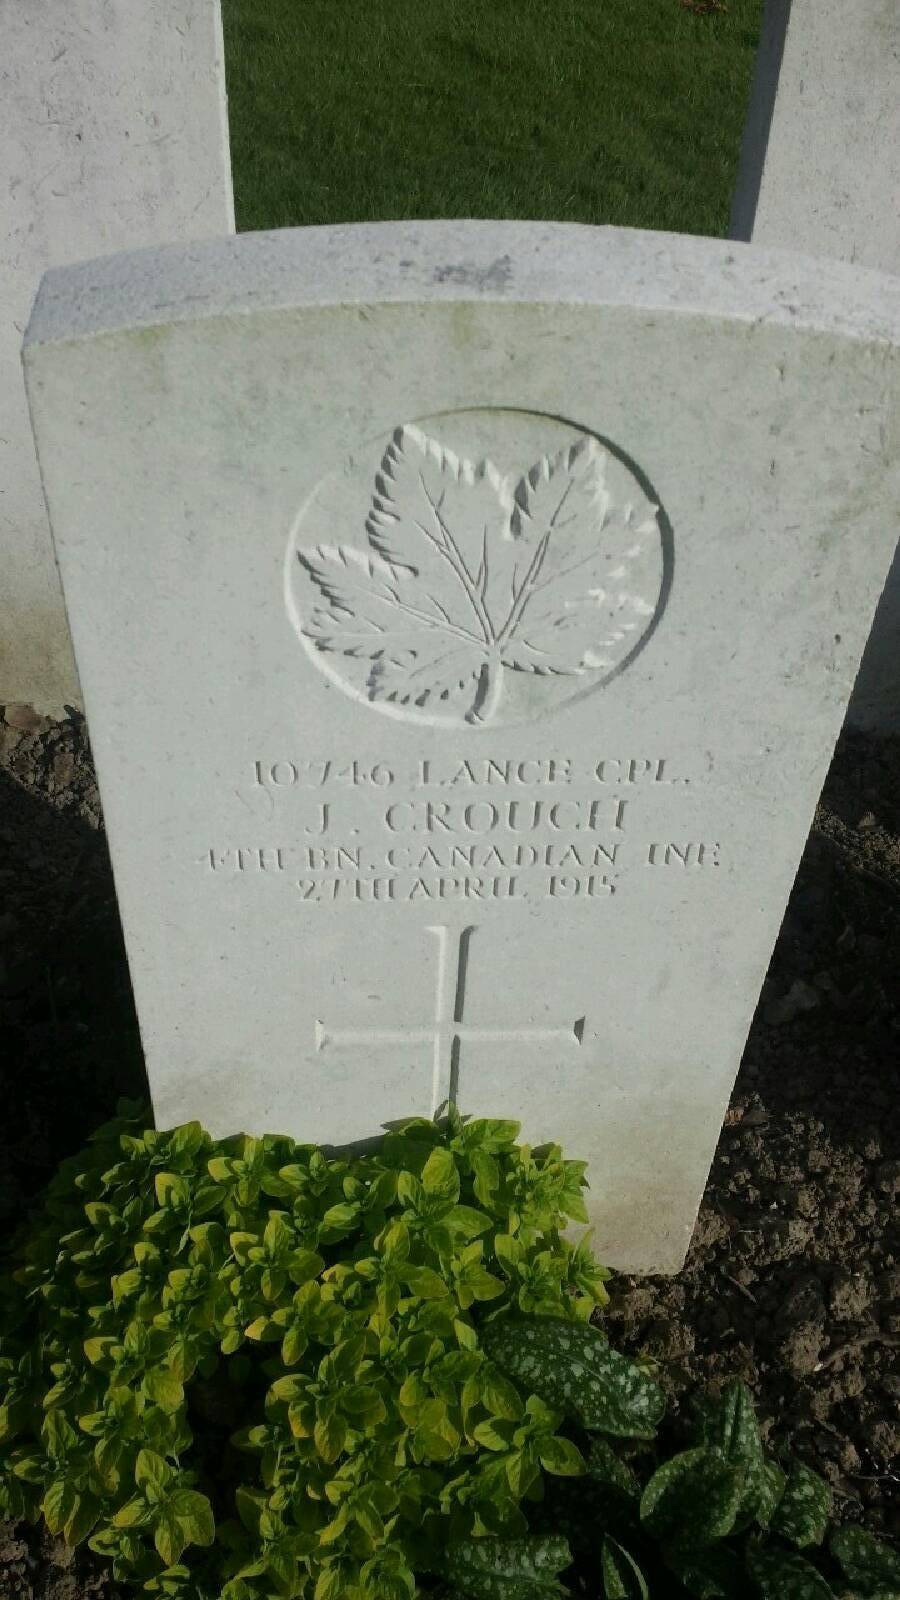military: (9, 234, 899, 1301)
